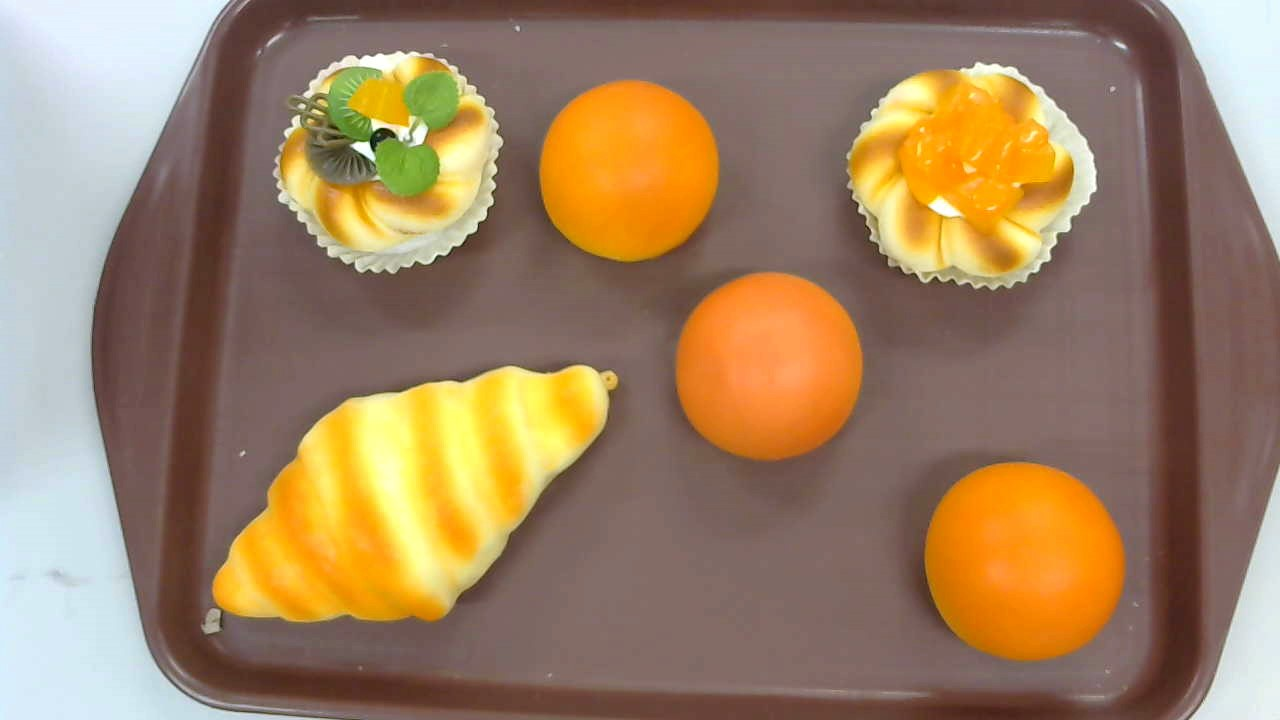bun: (924, 463, 1124, 659), (675, 271, 862, 461), (540, 80, 719, 265)
croissant: (212, 364, 617, 622)
fruit tart: (273, 49, 505, 275)
mango tart: (846, 60, 1097, 289)
